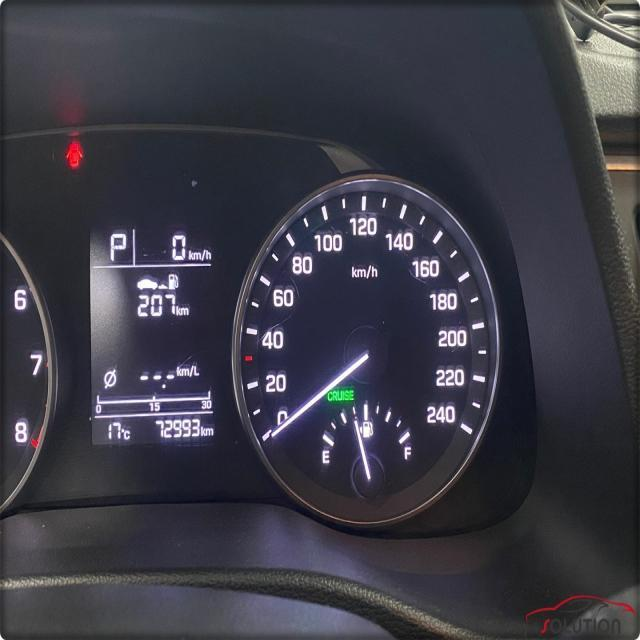Doors: (65, 140, 82, 168)
